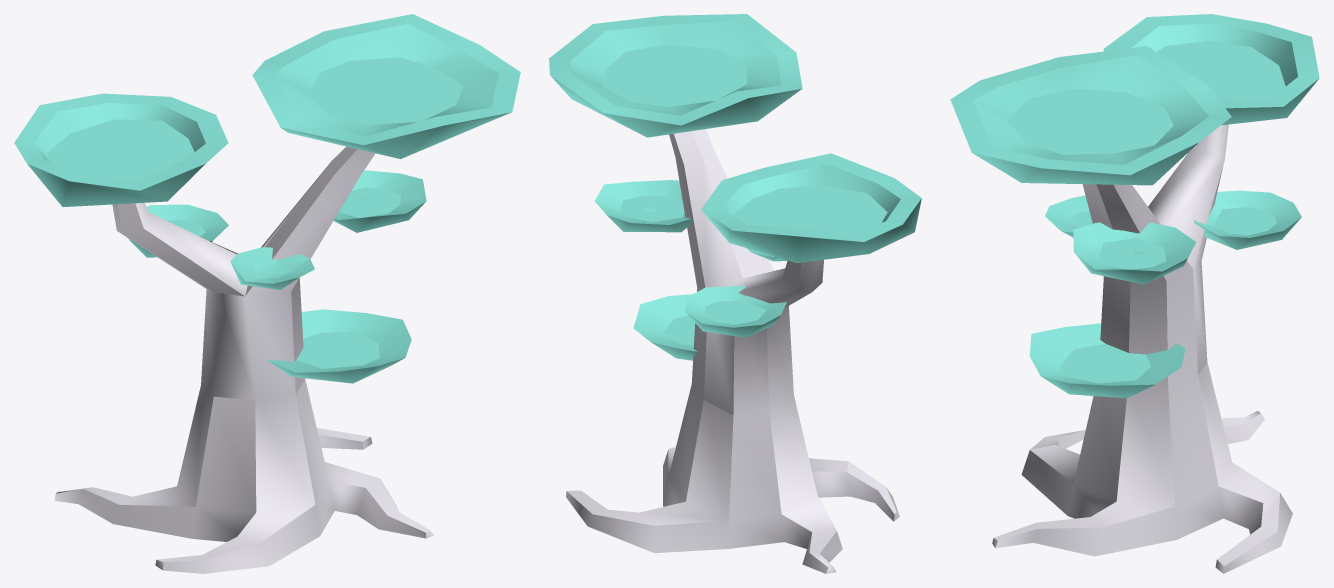
The model's file is natureuniverse_halucogentree_halucogentree_original.glb.
3 views of the same model, side by side, from view 1: azimuth 30°, elevation 25°; view 2: azimuth 150°, elevation 25°; view 3: azimuth 270°, elevation 25° (orthographic). The views are drawn at different scales.
Parts seen in each view (by area): view 1: 02_Leaves, 01_Trunk; view 2: 02_Leaves, 01_Trunk; view 3: 02_Leaves, 01_Trunk.
Boxes of the visible parts, x1,y1,x2,y2 form: 02_Leaves: (14,14,520,383); 01_Trunk: (54,146,433,573); 02_Leaves: (549,14,921,360); 01_Trunk: (566,129,899,573); 02_Leaves: (950,14,1319,398); 01_Trunk: (992,124,1292,573).
Size of the model in its own units: 9.85 by 10 by 7.36.
